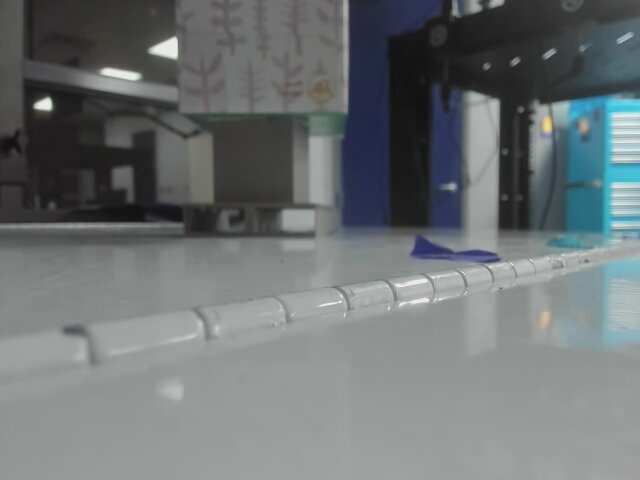grey pallet: (182, 115, 340, 240)
